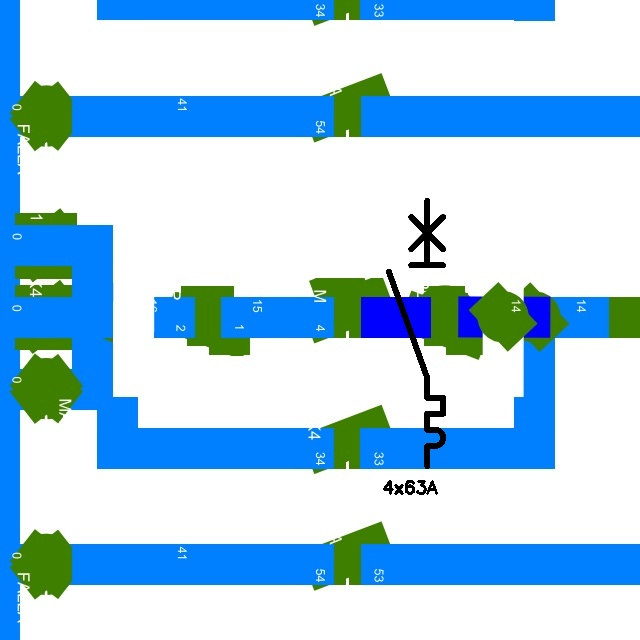interruptor_termomagnetico: (382, 194, 450, 473)
